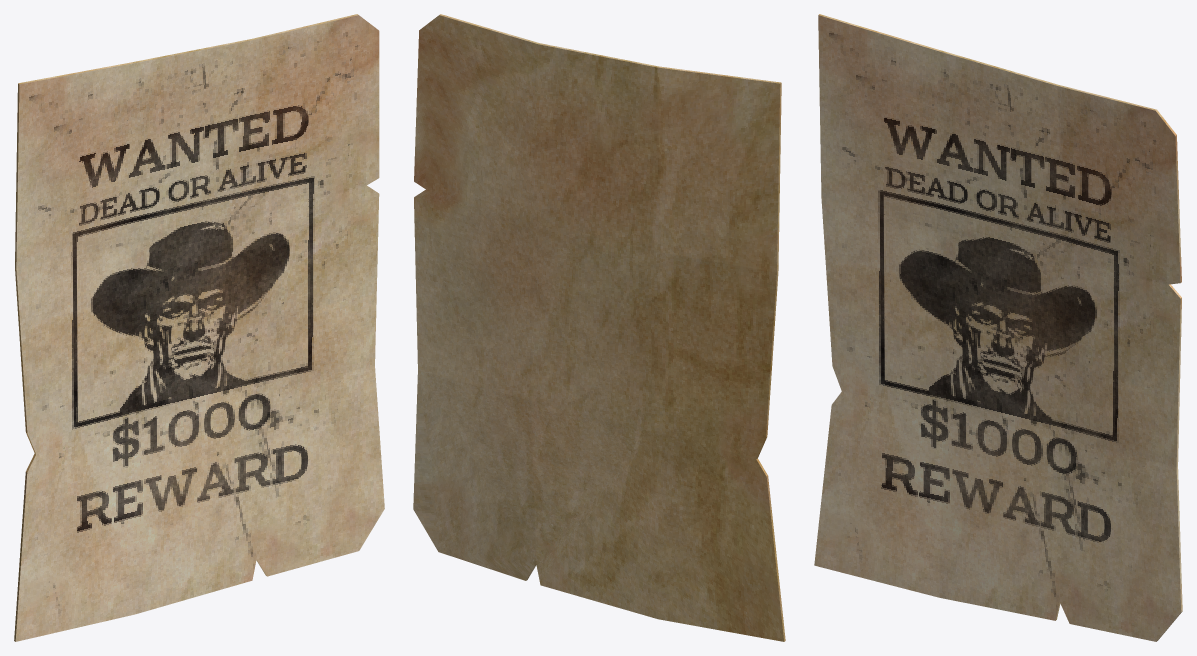
File: BountyPoster.glb
The picture shows the model from 3 angles, left to right: view 1: azimuth 30°, elevation 25°; view 2: azimuth 150°, elevation 25°; view 3: azimuth 330°, elevation 25°; orthographic projection.
Visible parts, largest first — view 1: BountyPoster; view 2: BountyPoster; view 3: BountyPoster.
Part boxes in pixels (x1,y1,x2,y2): BountyPoster: (14,14,384,641); BountyPoster: (413,14,785,641); BountyPoster: (814,14,1182,641).
Size of the model in its own units: 0.2814 by 0.4082 by 0.00865.
1 material, 1 textured.
